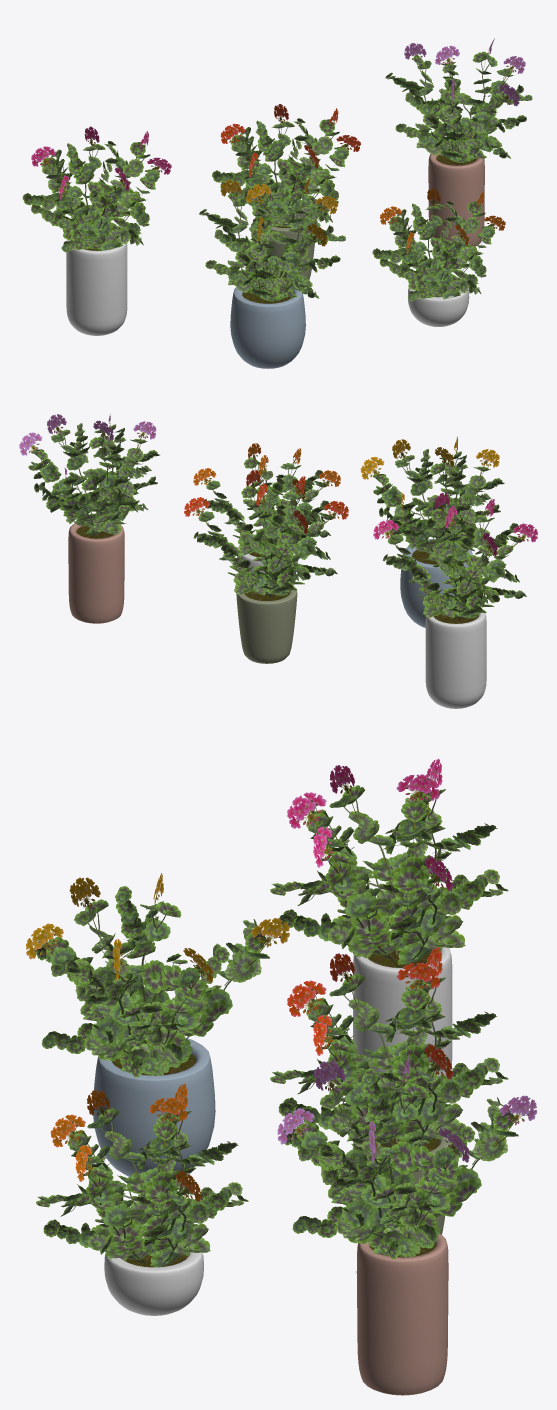
3 renders of one model, top to bottom at view 1: azimuth 30°, elevation 25°; view 2: azimuth 150°, elevation 25°; view 3: azimuth 270°, elevation 25°, orthographic. The views are drawn at different scales.
Parts seen in each view (by area): view 1: Geranium_02_7, Geranium_01_6, Geranium_03_8, Geranium05_0, Geranium_04_9, Pots_1_1, Pots_2_2, Pots_4_4, Pots_5_5, Pots_3_3; view 2: Geranium_03_8, Geranium05_0, Geranium_02_7, Geranium_01_6, Pots_1_1, Pots_4_4, Geranium_04_9, Pots_3_3, Pots_2_2; view 3: Geranium_03_8, Geranium_01_6, Geranium_02_7, Geranium05_0, Geranium_04_9, Pots_4_4, Pots_2_2, Pots_1_1, Pots_5_5.
Part boxes in pixels (x1,y1,x2,y2): Geranium_02_7: [22, 126, 171, 252]; Geranium_01_6: [199, 178, 345, 301]; Geranium_03_8: [385, 38, 532, 163]; Geranium05_0: [212, 104, 360, 228]; Geranium_04_9: [372, 188, 505, 301]; Pots_1_1: [66, 236, 127, 335]; Pots_2_2: [230, 287, 305, 368]; Pots_4_4: [428, 152, 484, 246]; Pots_5_5: [408, 286, 469, 326]; Pots_3_3: [268, 214, 314, 280]; Geranium_03_8: [19, 414, 159, 537]; Geranium05_0: [184, 470, 348, 597]; Geranium_02_7: [373, 492, 537, 620]; Geranium_01_6: [360, 436, 504, 561]; Pots_1_1: [425, 609, 486, 708]; Pots_4_4: [68, 523, 124, 623]; Geranium_04_9: [193, 443, 340, 555]; Pots_3_3: [236, 585, 297, 663]; Pots_2_2: [400, 538, 472, 627]; Geranium_03_8: [277, 1054, 536, 1259]; Geranium_01_6: [26, 873, 289, 1077]; Geranium_02_7: [270, 758, 508, 964]; Geranium05_0: [270, 947, 508, 1147]; Geranium_04_9: [36, 1083, 248, 1267]; Pots_4_4: [356, 1234, 448, 1395]; Pots_2_2: [93, 1037, 215, 1176]; Pots_1_1: [353, 945, 452, 1078]; Pots_5_5: [104, 1236, 203, 1315].
Size of the model in its own units: 2.75 by 1.06 by 1.49.
Materials: 6 (6 with a texture image).
